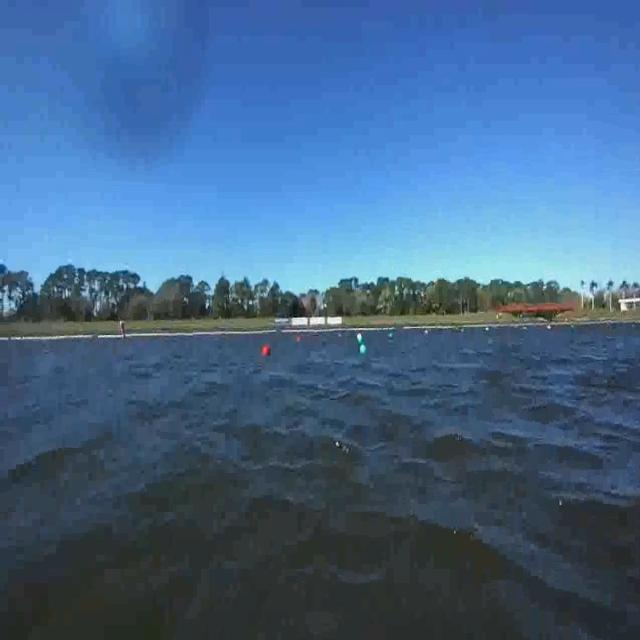green-buoy: (358, 339, 368, 358)
red-buoy: (264, 345, 272, 357)
